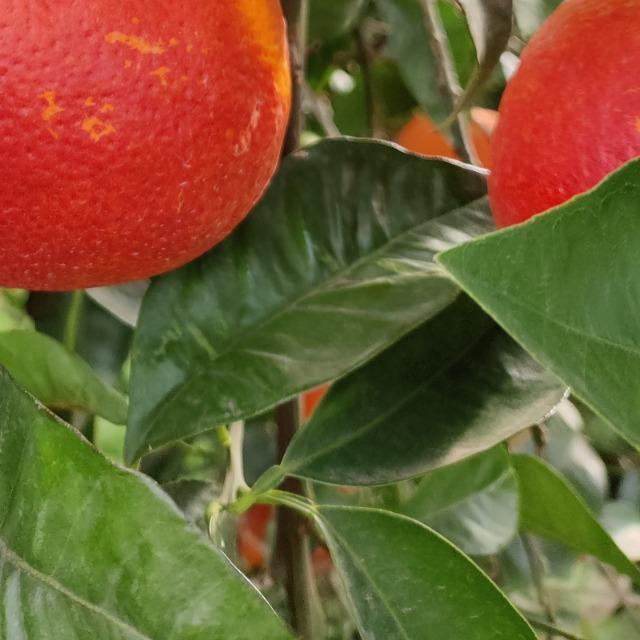orange: (0, 0, 275, 286), (473, 0, 639, 309)
